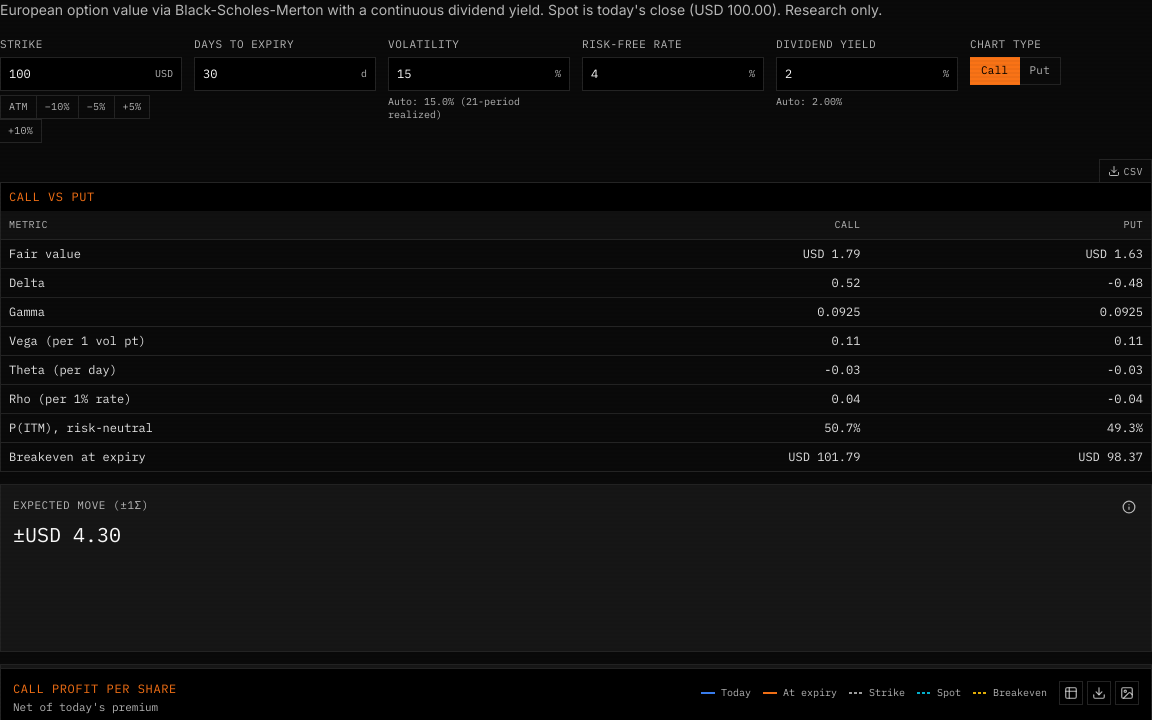
Test: OptionsSection › marks an invalid strike on the field
Replace the text in the number field labelled "Strike" with "0": (78, 74) [1, 58, 155, 90]
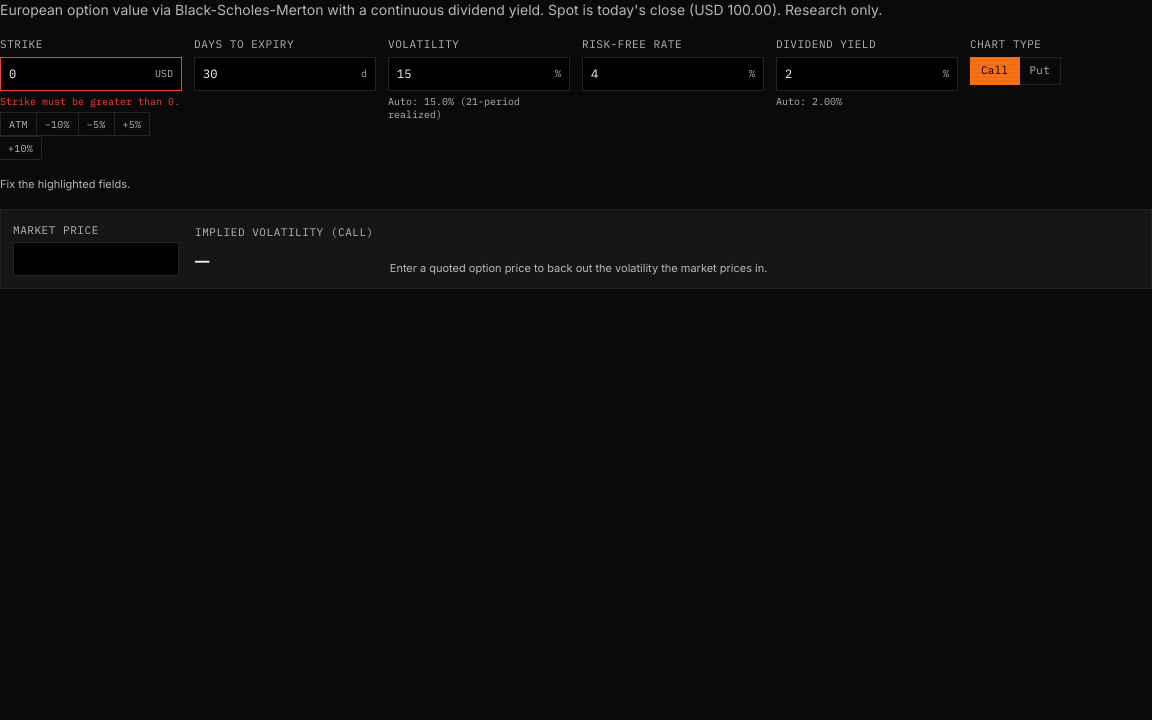
Result: the text "Strike must be greater than 0." is shown at [0, 94, 182, 108]
Result: the text "Call vs put" is gone
